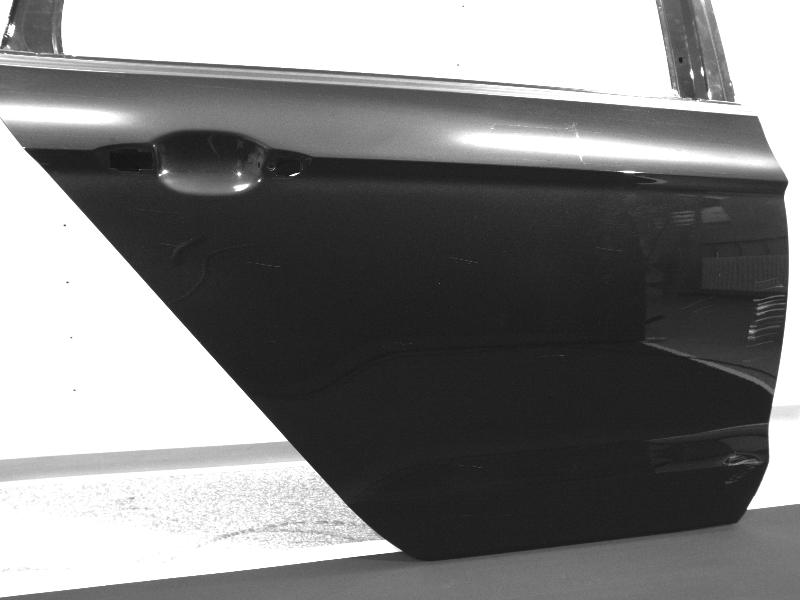scratch: (743, 276, 786, 363), (723, 449, 764, 485), (682, 294, 720, 314), (140, 206, 178, 214), (246, 260, 281, 268), (446, 257, 480, 265), (595, 245, 624, 252), (454, 463, 483, 470), (159, 242, 183, 248), (539, 354, 567, 358)
